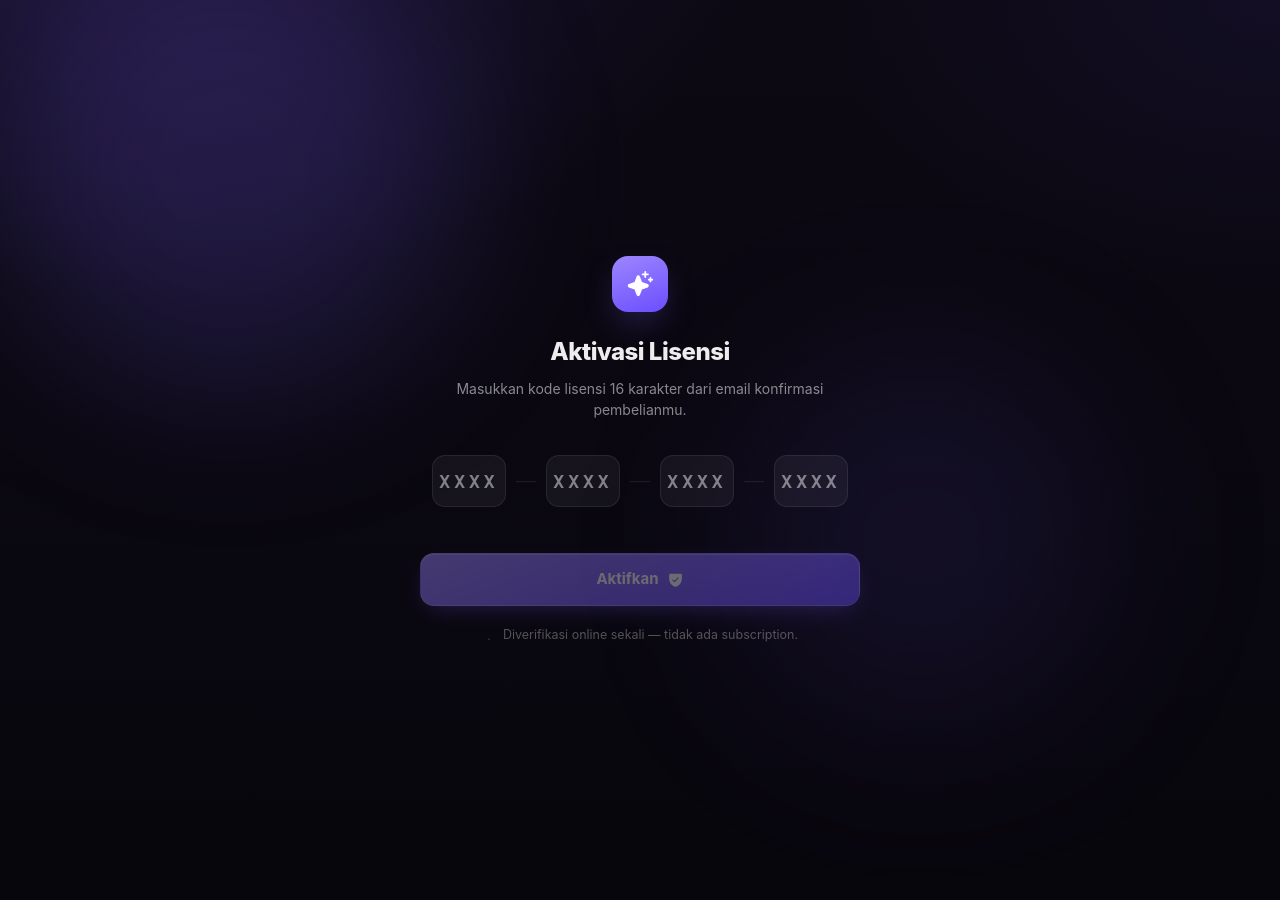
it: ActivationScreen › filters non-alphanumerics and uppercases input
Type "ab-1!" into the 1st field with placeholder "XXXX" at (469, 481), box [432,455,506,507]
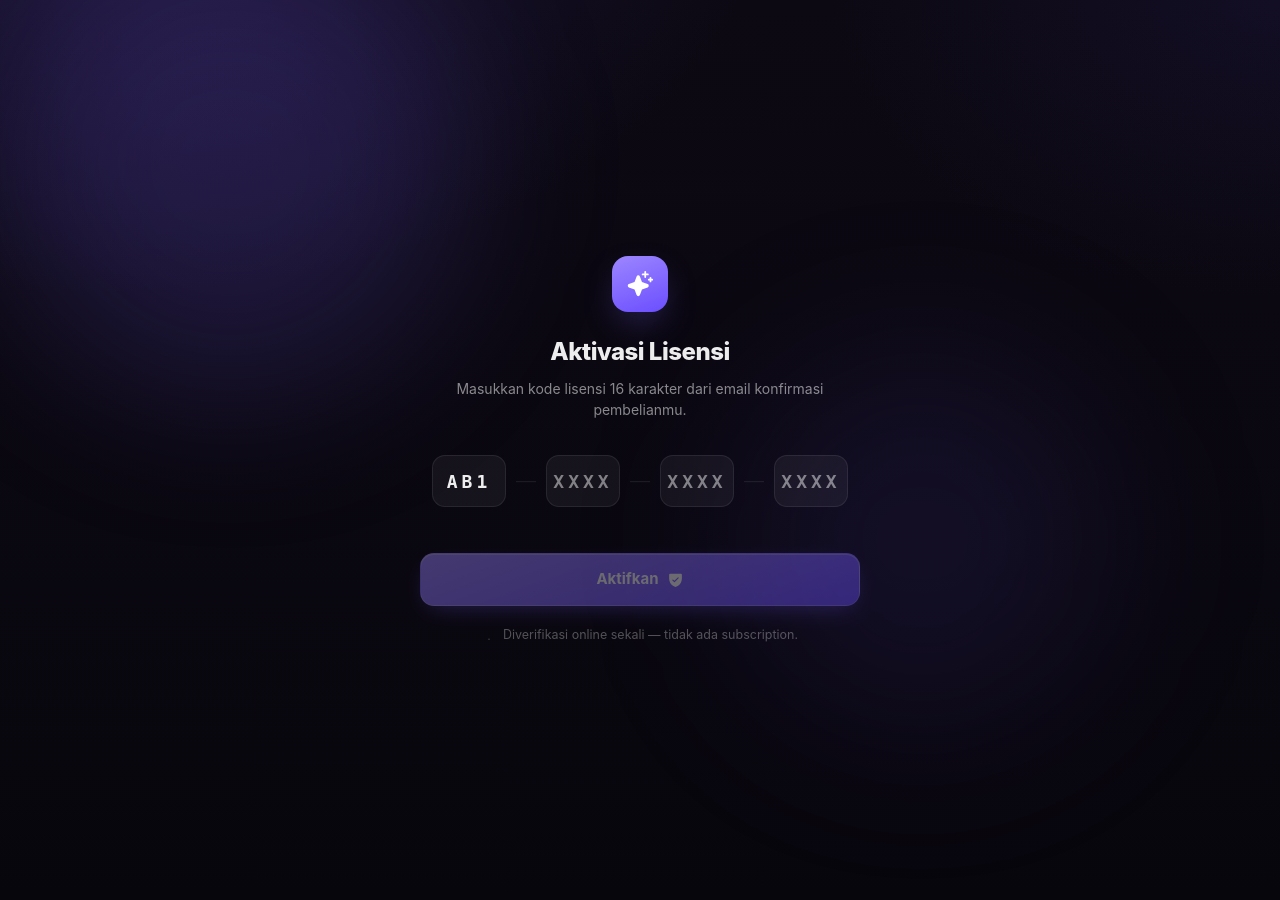
Result: the field with placeholder "XXXX" holds "AB1" at [432,455,506,507]
